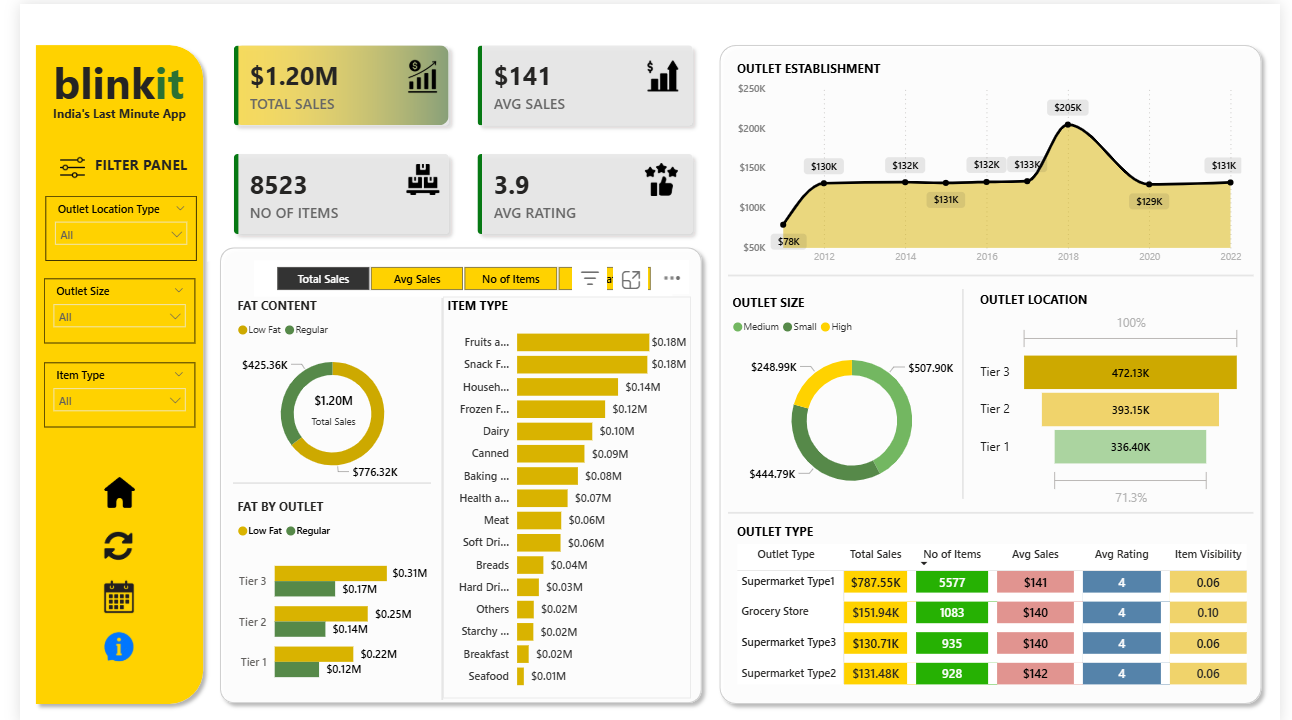

What the dashboard file says about the page in this screenshot:
{"tool":"powerbi","page":{"name":"Home","canvas":[1400,800],"ordinal":0},"visuals":[{"type":"shape","box":[9,36.1,204.2,750],"z":0},{"type":"textbox","box":[27.1,48.8,166.3,90.4],"z":1000},{"type":"textbox","box":[7.2,106.6,207.8,32.5],"z":2000},{"type":"cardVisual","fields":{"Data":["BlinkIT Grocery Data.Total Sales","BlinkIT Grocery Data.Avg Sales","BlinkIT Grocery Data.No of Items","BlinkIT Grocery Data.Avg Rating"]},"box":[207.8,16.3,569.3,269.3],"z":3000},{"type":"shape","box":[213.3,262.1,553,524.1],"z":4000},{"type":"donutChart","title":"FAT CONTENT","fields":{"Y":["BlinkIT Grocery Data.Total Sales"],"Category":["BlinkIT Grocery Data.Item Fat Content"]},"box":[236.8,325.3,220.5,215.1],"z":5000},{"type":"slicer","fields":{"Values":["Metrics.Metrics"]},"box":[260.2,285.5,464.5,39.8],"z":6000},{"type":"card","fields":{"Values":["BlinkIT Grocery Data.Total Sales"]},"box":[276.5,412.1,142.8,75.9],"z":7000},{"type":"clusteredBarChart","title":"FAT BY OUTLET","fields":{"Y":["BlinkIT Grocery Data.Total Sales"],"Category":["BlinkIT Grocery Data.Outlet Location Type"],"Series":["BlinkIT Grocery Data.Item Fat Content"]},"box":[236.8,547.6,220.5,224.1],"z":8000},{"type":"shape","box":[236,524,220,18],"z":9000},{"type":"shape","box":[768,36,620,750],"z":10000},{"type":"shape","box":[456.7,326.7,25,446.7],"z":11000},{"type":"barChart","title":"ITEM TYPE","fields":{"Y":["BlinkIT Grocery Data.Total Sales"],"Category":["BlinkIT Grocery Data.Item Type"]},"box":[470,325,275,446.7],"z":12000},{"type":"lineChart","title":"OUTLET ESTABLISHMENT","fields":{"Category":["BlinkIT Grocery Data.Outlet Establishment Year"],"Y":["BlinkIT Grocery Data.Total Sales"]},"box":[792,62,570,236],"z":13000},{"type":"shape","box":[786,286,584,30],"z":14000},{"type":"donutChart","title":"OUTLET SIZE","fields":{"Y":["BlinkIT Grocery Data.Total Sales"],"Category":["BlinkIT Grocery Data.Outlet Size"]},"box":[786.2,321.7,274.7,236.8],"z":15000},{"type":"shape","box":[1035.6,316.3,25.3,233.1],"z":16000},{"type":"funnel","title":"OUTLET LOCATION","fields":{"Category":["BlinkIT Grocery Data.Outlet Location Type"],"Y":["Sum(BlinkIT Grocery Data.Sales)"]},"box":[1060.9,318.1,300,245.8],"z":17000},{"type":"shape","box":[786.2,549.4,583.7,30.7],"z":18000},{"type":"pivotTable","title":"OUTLET TYPE","fields":{"Rows":["BlinkIT Grocery Data.Outlet Type"],"Values":["BlinkIT Grocery Data.Total Sales","BlinkIT Grocery Data.No of Items","BlinkIT Grocery Data.Avg Sales","BlinkIT Grocery Data.Avg Rating","Avg(BlinkIT Grocery Data.Item Visibility)"]},"box":[791.6,576.5,583.7,209.6],"z":19000},{"type":"slicer","fields":{"Values":["BlinkIT Grocery Data.Outlet Location Type"]},"box":[28.9,213.3,168.1,72.3],"z":20000},{"type":"slicer","fields":{"Values":["BlinkIT Grocery Data.Outlet Size"]},"box":[27.1,305.4,168.1,72.3],"z":21000},{"type":"slicer","fields":{"Values":["BlinkIT Grocery Data.Item Type"]},"box":[27.1,397.6,168.1,72.3],"z":22000},{"type":"image","box":[74.1,576.5,72.3,50.6],"z":23000},{"type":"image","box":[57.8,507.8,104.8,68.7],"z":24000},{"type":"image","box":[88.6,634.4,43.4,47],"z":25000},{"type":"image","box":[74.1,683.1,72.3,70.5],"z":26000},{"type":"image","box":[28.9,160.8,59.6,39.8],"z":27000},{"type":"textbox","box":[77.7,160.8,137.4,39.8],"z":28000},{"type":"image","box":[426.7,61.7,41,37],"z":29000},{"type":"image","box":[693.3,61.7,41.7,36.7],"z":30000},{"type":"image","box":[691.7,176.7,41.7,36.7],"z":30001},{"type":"image","box":[426.7,176.7,41.7,36.7],"z":30002}]}

Visuals, with their boxes in screenshot pixels (x1, y1, x2, y2), scaled from the page's 1400x800 canvas onto the 1292x720 screenshot:
shape: (left=8, top=32, right=197, bottom=707)
textbox: (left=25, top=44, right=178, bottom=125)
textbox: (left=7, top=96, right=198, bottom=125)
cardVisual - BlinkIT Grocery Data.Total Sales x BlinkIT Grocery Data.Avg Sales: (left=192, top=15, right=717, bottom=257)
shape: (left=197, top=236, right=707, bottom=708)
"FAT CONTENT" donutChart: (left=219, top=293, right=422, bottom=486)
slicer - Metrics.Metrics: (left=240, top=257, right=669, bottom=293)
card - BlinkIT Grocery Data.Total Sales: (left=255, top=371, right=387, bottom=439)
"FAT BY OUTLET" clusteredBarChart: (left=219, top=493, right=422, bottom=695)
shape: (left=218, top=472, right=421, bottom=488)
shape: (left=709, top=32, right=1281, bottom=707)
shape: (left=421, top=294, right=445, bottom=696)
"ITEM TYPE" barChart: (left=434, top=292, right=688, bottom=695)
"OUTLET ESTABLISHMENT" lineChart: (left=731, top=56, right=1257, bottom=268)
shape: (left=725, top=257, right=1264, bottom=284)
"OUTLET SIZE" donutChart: (left=726, top=290, right=979, bottom=503)
shape: (left=956, top=285, right=979, bottom=494)
"OUTLET LOCATION" funnel: (left=979, top=286, right=1256, bottom=508)
shape: (left=726, top=494, right=1264, bottom=522)
"OUTLET TYPE" pivotTable: (left=731, top=519, right=1269, bottom=707)
slicer - BlinkIT Grocery Data.Outlet Location Type: (left=27, top=192, right=182, bottom=257)
slicer - BlinkIT Grocery Data.Outlet Size: (left=25, top=275, right=180, bottom=340)
slicer - BlinkIT Grocery Data.Item Type: (left=25, top=358, right=180, bottom=423)
image: (left=68, top=519, right=135, bottom=564)
image: (left=53, top=457, right=150, bottom=519)
image: (left=82, top=571, right=122, bottom=613)
image: (left=68, top=615, right=135, bottom=678)
image: (left=27, top=145, right=82, bottom=181)
textbox: (left=72, top=145, right=199, bottom=181)
image: (left=394, top=56, right=432, bottom=89)
image: (left=640, top=56, right=678, bottom=89)
image: (left=638, top=159, right=677, bottom=192)
image: (left=394, top=159, right=432, bottom=192)
